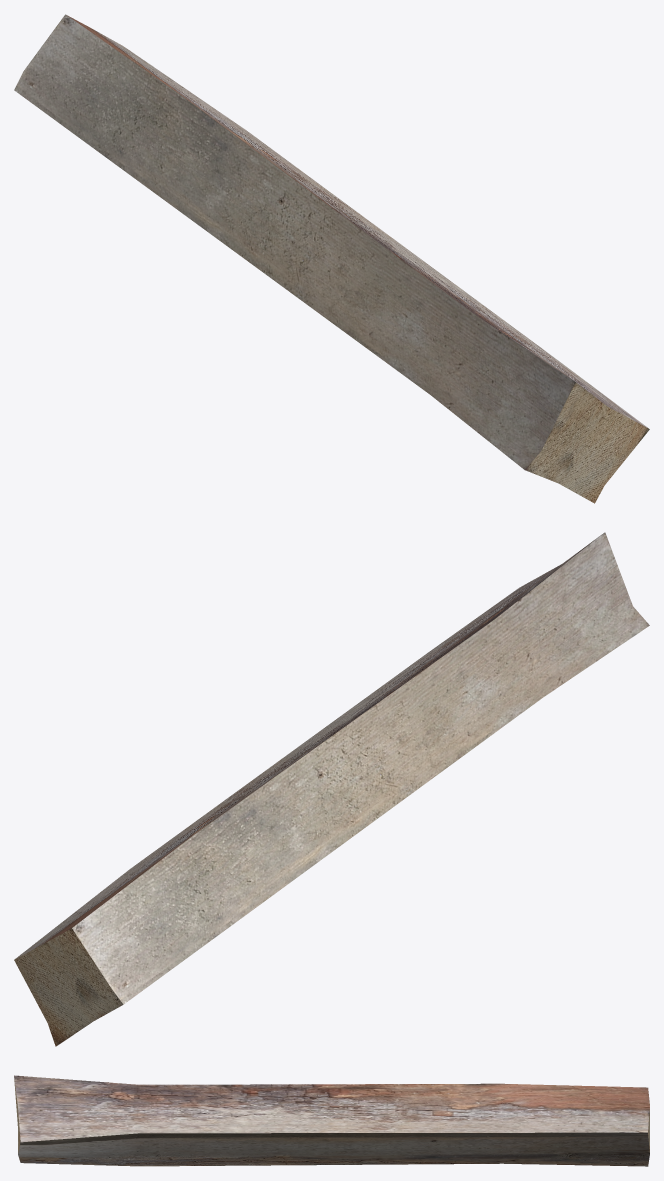
The model's file is building_outline.dae.
The picture shows the model from 3 angles, top to bottom: view 1: azimuth 30°, elevation 25°; view 2: azimuth 150°, elevation 25°; view 3: azimuth 270°, elevation 25°; orthographic projection. The views are drawn at different scales.
Parts seen in each view (by area): view 1: table_wood; view 2: table_wood; view 3: table_wood.
Boxes of the visible parts, bbox=[...] form: table_wood: bbox=[14, 14, 649, 503]; table_wood: bbox=[14, 532, 649, 1046]; table_wood: bbox=[14, 1075, 649, 1166].
Size of the model in its own units: 1.99 by 14.11 by 2.04.
Materials: 1 (1 with a texture image).
